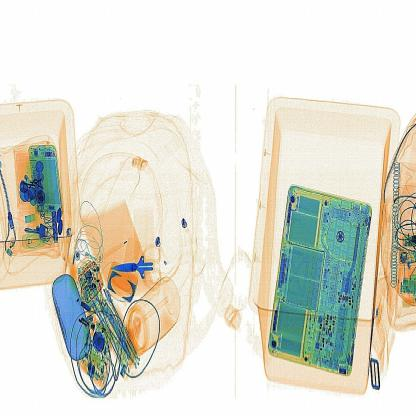gun: (112, 237, 178, 300)
